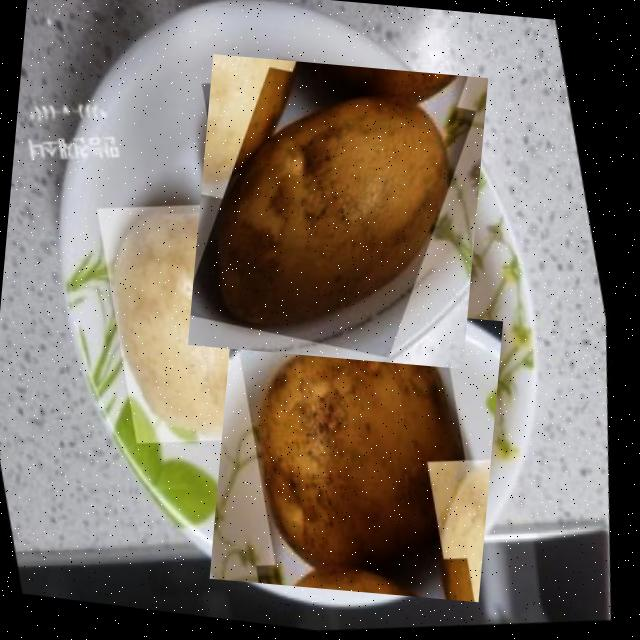Potato: (188, 54, 488, 368), (209, 298, 503, 602), (82, 190, 312, 465)
